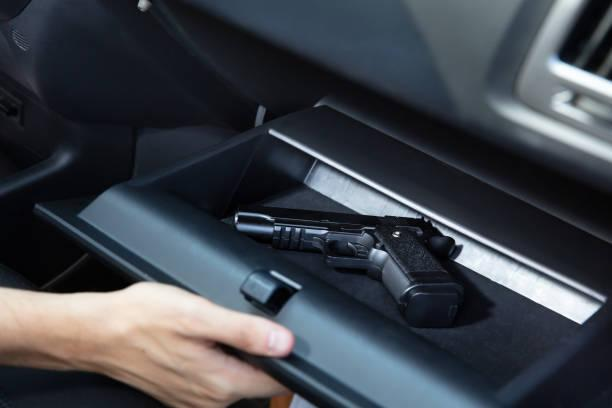weapon: (230, 197, 467, 327)
